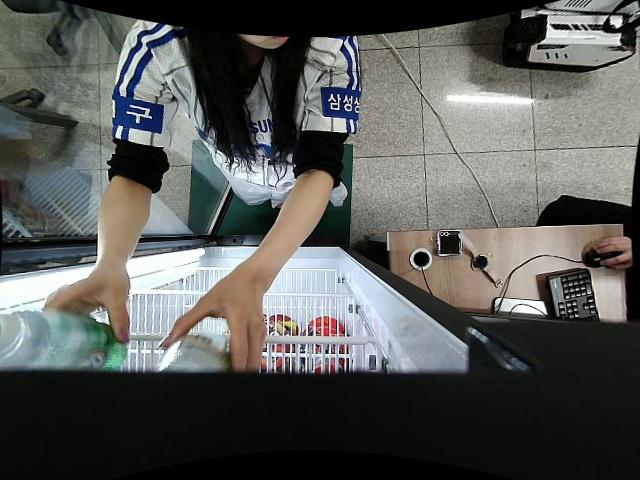00_hand: (157, 279, 268, 375), (42, 266, 132, 346)
18_trevi: (0, 311, 124, 375), (151, 316, 233, 375)
